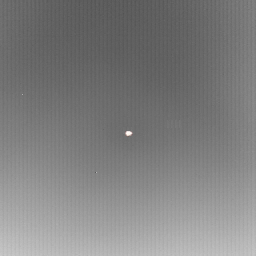Target: (123, 130, 133, 138)
